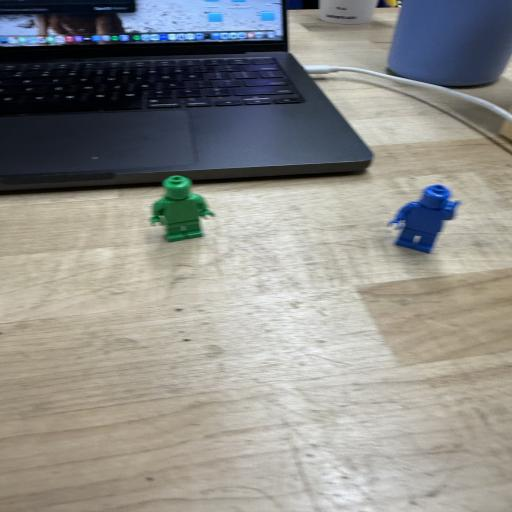blue-minifig: (392, 185, 459, 252)
green-minifig: (151, 175, 214, 242)
